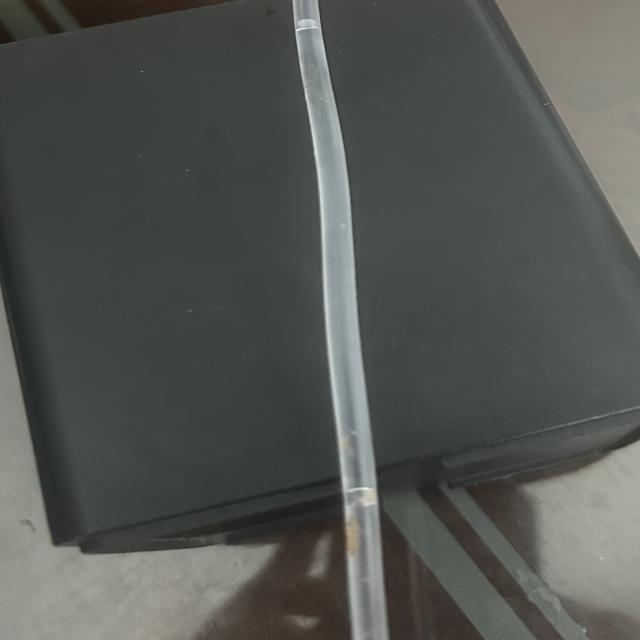bubble: (341, 484, 381, 520), (300, 8, 332, 36)
